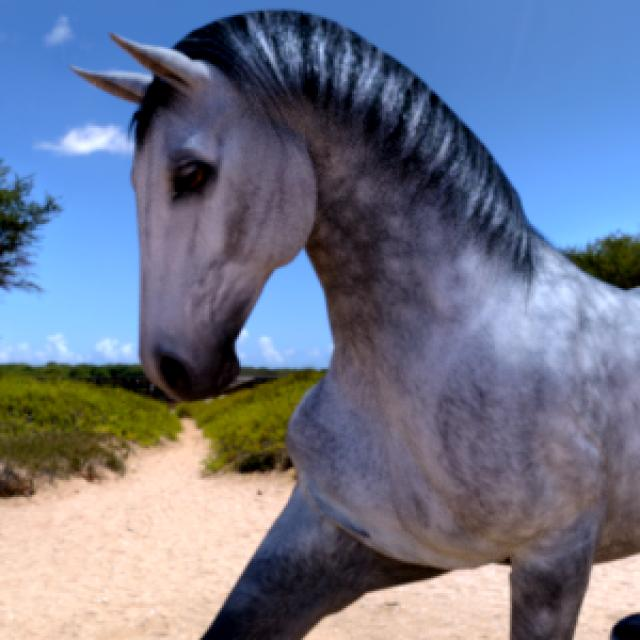horse: (79, 12, 640, 640)
